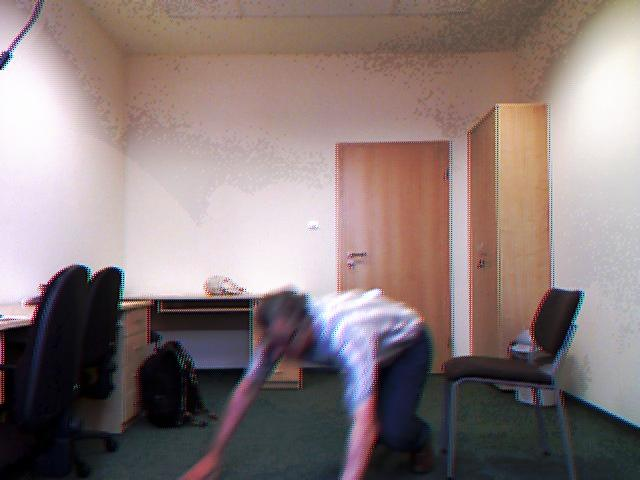fall: (178, 284, 455, 480)
